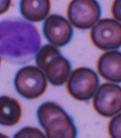L: (1, 16, 42, 64)
